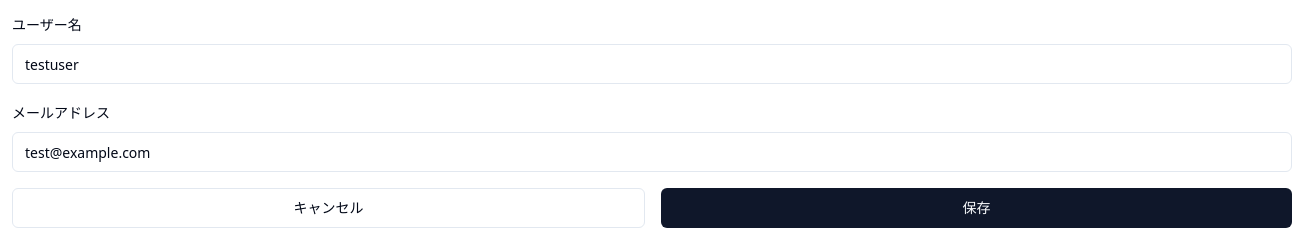
Test: UserSettingsForm › should disable buttons while loading
This screenshot has width=1304, height=245.
Click the button "保存": (976, 208) [661,188,1292,228]
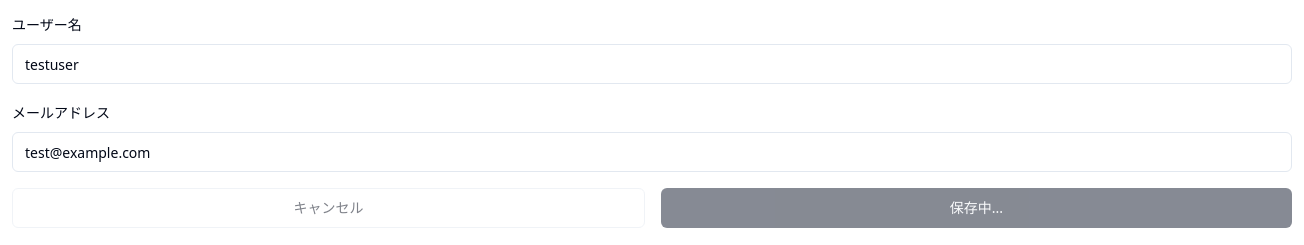
Now the button "保存中..." is disabled, box [661,188,1292,228]
Now the button "キャンセル" is disabled, box [12,188,645,228]
